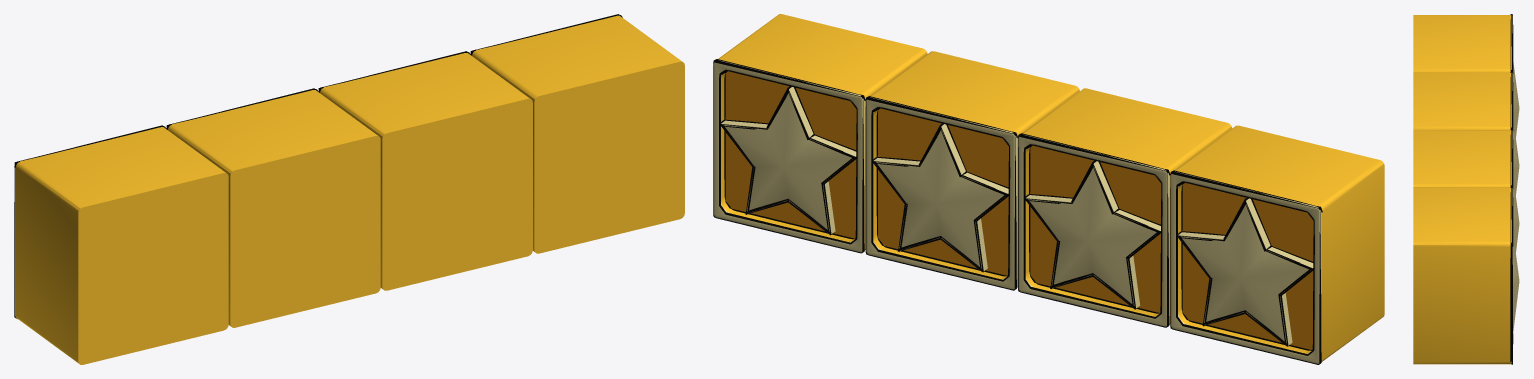
File: Liggendblock.fbx
3 renders of one model, left to right at view 1: azimuth 30°, elevation 25°; view 2: azimuth 150°, elevation 25°; view 3: azimuth 270°, elevation 25°, orthographic. The views are drawn at different scales.
Parts seen in each view (by area): view 1: Cube.013; view 2: Cube.013; view 3: Cube.013.
Part boxes in pixels (bbox=[...]): Cube.013: bbox=[14, 14, 684, 364]; Cube.013: bbox=[713, 14, 1384, 364]; Cube.013: bbox=[1413, 14, 1519, 364].
Size of the model in its own units: 222 by 55.44 by 43.27.
